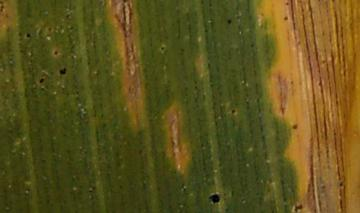tarspot: (207, 192, 223, 205), (58, 66, 68, 77), (292, 203, 302, 213), (224, 16, 234, 25), (45, 25, 54, 35), (290, 122, 299, 131), (37, 76, 46, 85), (228, 107, 237, 115), (180, 184, 188, 193), (318, 183, 327, 191), (1, 1, 6, 15), (338, 180, 345, 190), (158, 43, 166, 51), (88, 185, 96, 193), (282, 14, 289, 22), (52, 49, 59, 57), (25, 31, 31, 40), (73, 90, 82, 96), (137, 148, 144, 155), (208, 1, 214, 9), (198, 142, 204, 150), (307, 182, 311, 193), (65, 12, 70, 20), (289, 78, 294, 86), (193, 85, 201, 90), (248, 43, 255, 48), (68, 25, 73, 32), (199, 1, 205, 6), (284, 1, 288, 8), (204, 27, 208, 33), (86, 60, 90, 65), (330, 1, 336, 4), (316, 1, 322, 4), (121, 1, 128, 3)
